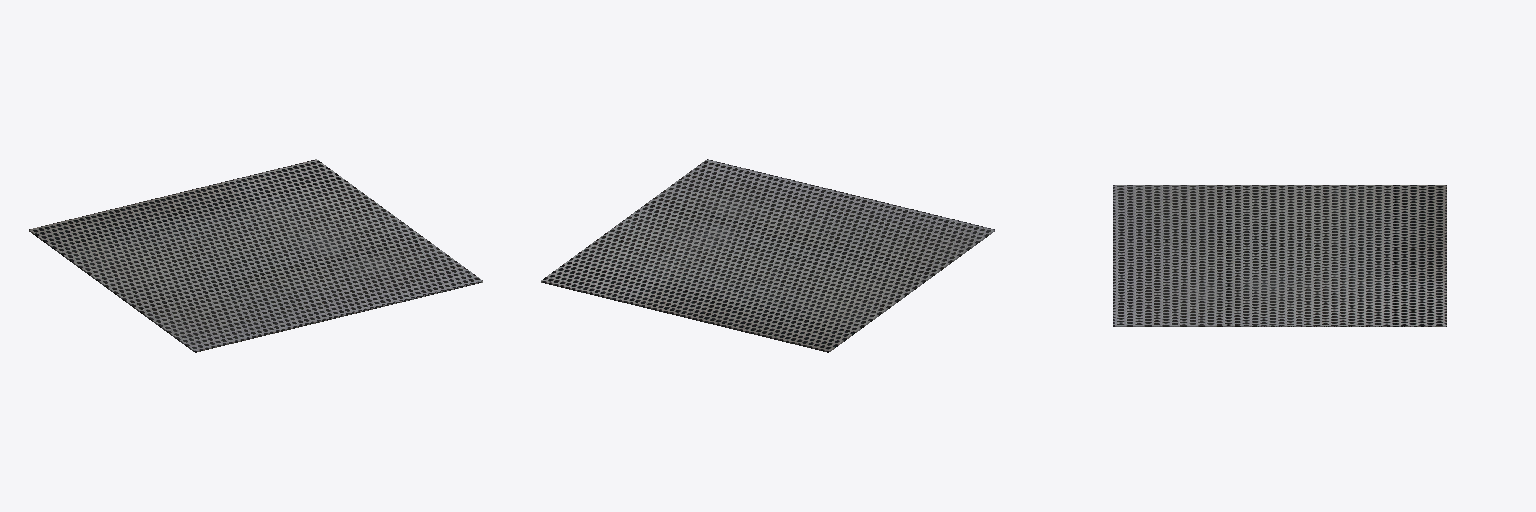
3 renders of one model, left to right at view 1: azimuth 30°, elevation 25°; view 2: azimuth 150°, elevation 25°; view 3: azimuth 270°, elevation 25°, orthographic.
Visible parts, largest first — view 1: Plane; view 2: Plane; view 3: Plane.
Boxes of the visible parts, x1,y1,x2,y2 form: Plane: [29, 159, 482, 352]; Plane: [541, 159, 994, 352]; Plane: [1113, 185, 1446, 326].
Bounding box in the file's own units: 2 × 0.01 × 2.
Materials: 1 (1 with a texture image).